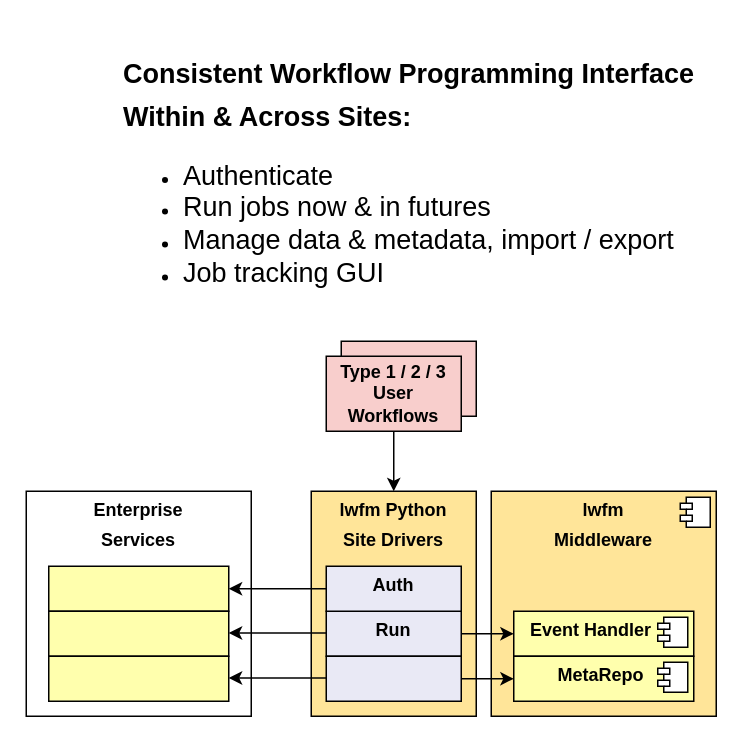
Some shapes in this 743 by 743 pixel diagram are drawn without their labels. The centre of each missing label's shape, as x and y in pixels:
"Local Storage" belongs at [138,678].
"Repo" belongs at [393,678].
"Scheduler" belongs at [138,633].
"User Authenticaion" belongs at [138,588].
